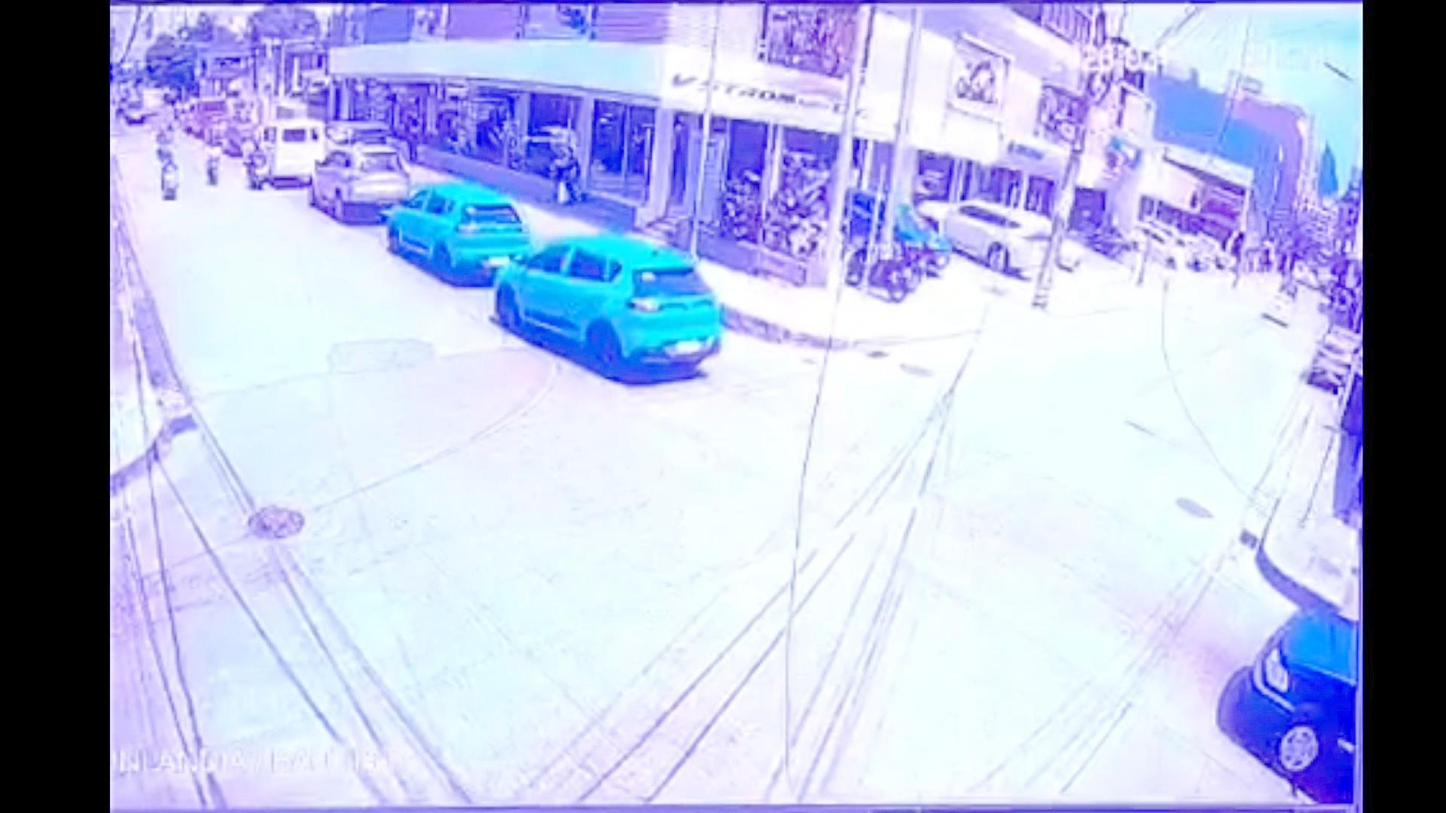Car: (494, 229, 720, 383), (1217, 604, 1359, 804), (382, 182, 533, 285), (839, 188, 955, 272), (938, 199, 1066, 275), (307, 140, 412, 221), (251, 118, 327, 189), (1134, 221, 1225, 272), (1303, 324, 1359, 391), (117, 90, 160, 125)
Motor: (157, 144, 184, 199), (204, 137, 223, 179), (155, 126, 174, 160)
